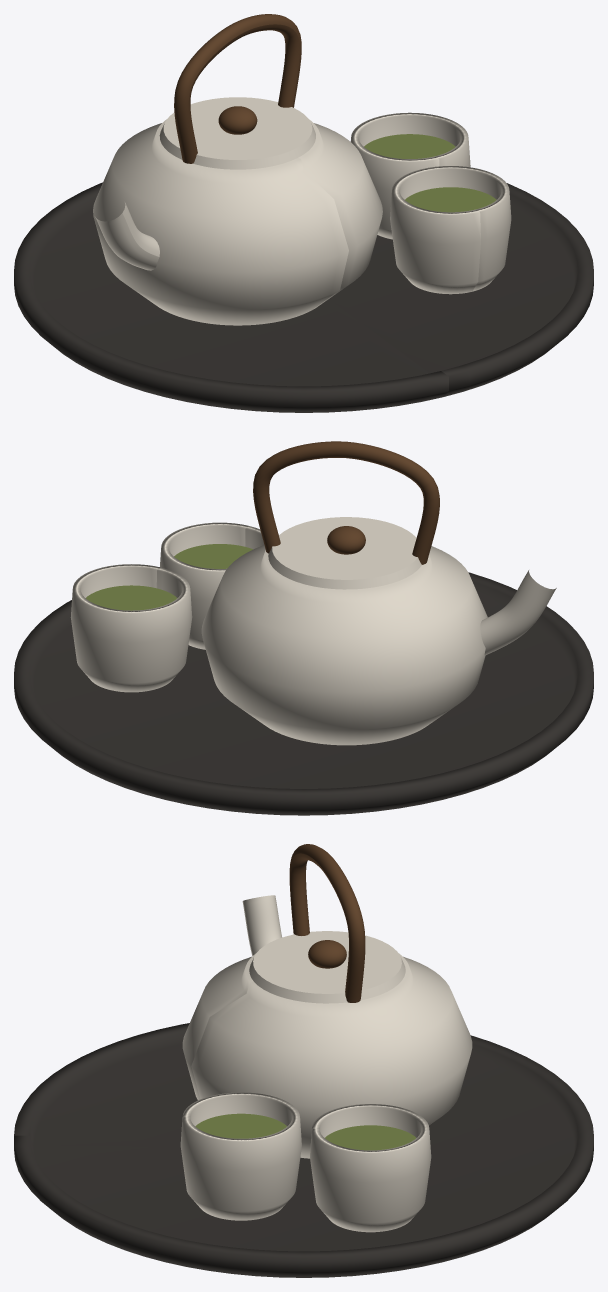
File: ceramic_tea_set.glb
3 renders of one model, top to bottom at view 1: azimuth 30°, elevation 25°; view 2: azimuth 150°, elevation 25°; view 3: azimuth 270°, elevation 25°, orthographic.
Size of the model in its own units: 2.96 by 1.56 by 2.96.
